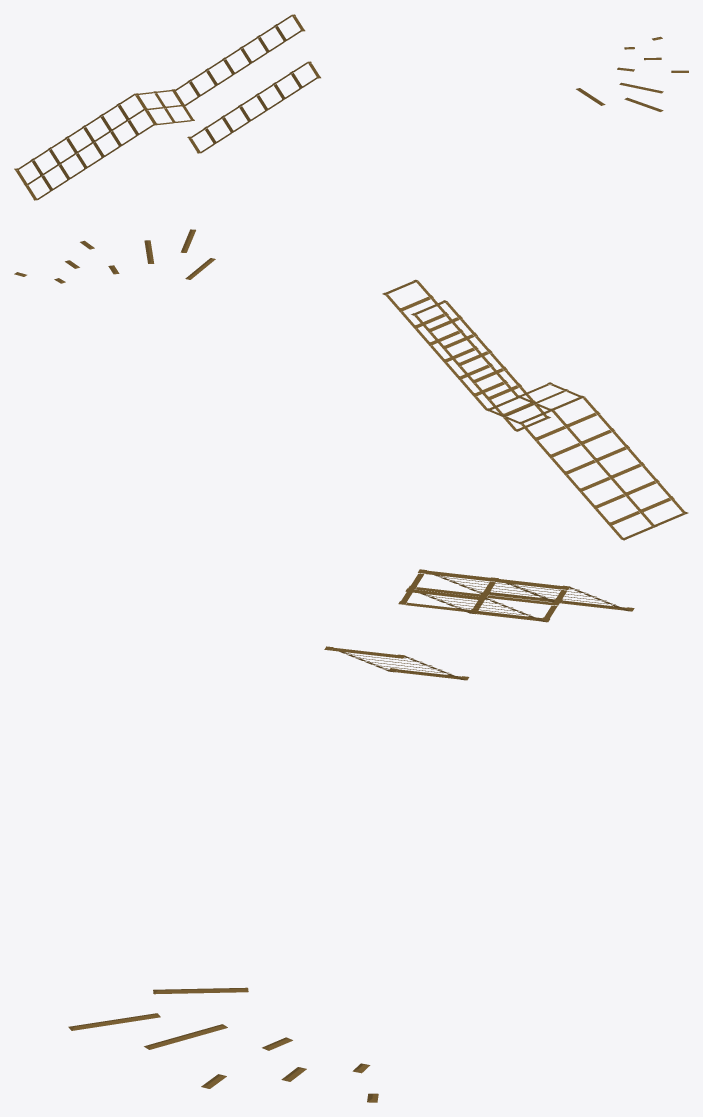
File: Combined_ShadowCollisionPrefab.fbx
3 views of the same model, one above another, from view 1: azimuth 30°, elevation 25°; view 2: azimuth 150°, elevation 25°; view 3: azimuth 270°, elevation 25° (orthographic). The views are drawn at different scales.
Parts seen in each view (by area): view 1: Combined_ShadowCollisionPrefab; view 2: Combined_ShadowCollisionPrefab; view 3: Combined_ShadowCollisionPrefab.
Boxes of the visible parts, box(x1,y1,x2,y2) form: Combined_ShadowCollisionPrefab: box(14, 14, 688, 200); Combined_ShadowCollisionPrefab: box(14, 229, 688, 540); Combined_ShadowCollisionPrefab: box(68, 569, 634, 1102).
Bounding box in the file's own units: 393 × 76.73 × 161.
